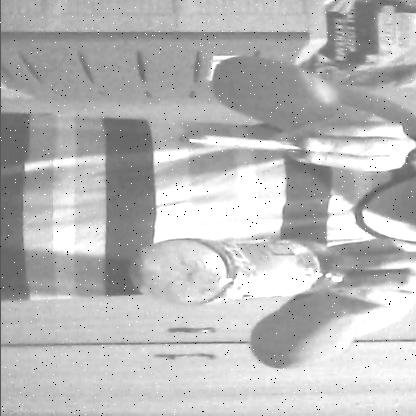Plastic Bottle: (128, 235, 391, 309)
